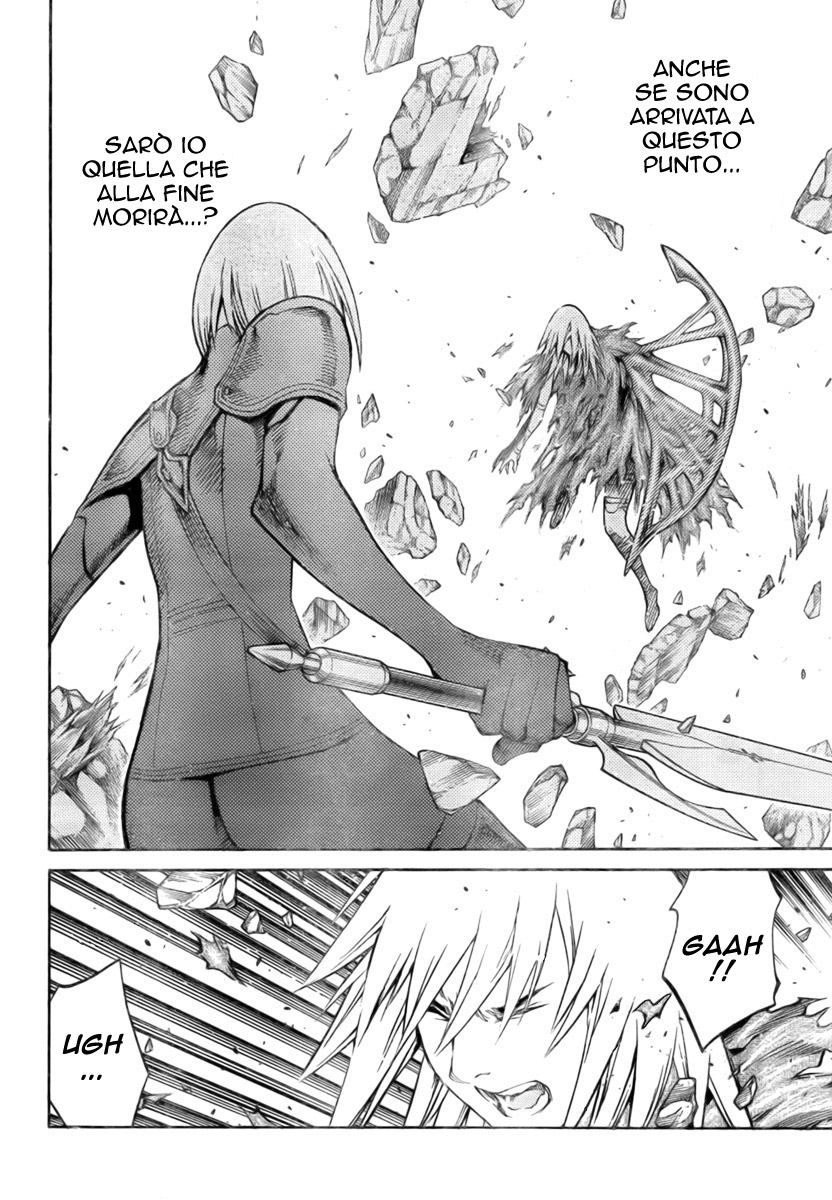Baloon: (664, 869, 784, 1053), (42, 956, 149, 1131), (627, 51, 765, 182), (85, 131, 227, 229)
Vignetta: (47, 2, 832, 853), (47, 869, 832, 1127)
